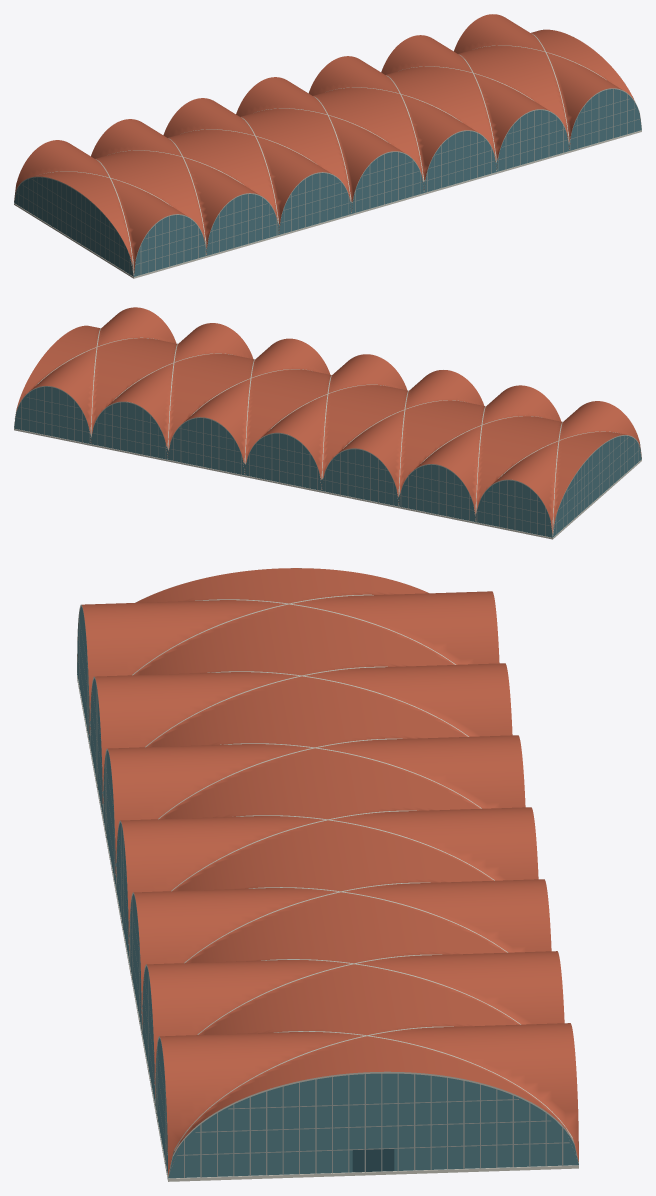
The model's file is SEU_pool_exterior_v05.glb.
3 views of the same model, one above another, from view 1: azimuth 30°, elevation 25°; view 2: azimuth 150°, elevation 25°; view 3: azimuth 270°, elevation 25° (orthographic). The views are drawn at different scales.
Visible parts, largest first — view 1: SEU_B_OSMWAY_851764288_V05__glazing_00, SEU_B_OSMWAY_851764288_V05__vault_00, SEU_B_OSMWAY_851764288_V05__vault_01, SEU_B_OSMWAY_851764288_V05__vault_02, SEU_B_OSMWAY_851764288_V05__vault_04, SEU_B_OSMWAY_851764288_V05__vault_03, SEU_B_OSMWAY_851764288_V05__vault_05, SEU_B_OSMWAY_851764288_V05__vault_06, SEU_B_OSMWAY_851764288_V05__glazing_03, SEU_B_OSMWAY_851764288_V05__mullions_00, SEU_B_OSMWAY_851764288_V05__foundation, SEU_B_OSMWAY_851764288_V05__transoms_00 (+2 smaller); view 2: SEU_B_OSMWAY_851764288_V05__glazing_02, SEU_B_OSMWAY_851764288_V05__vault_00, SEU_B_OSMWAY_851764288_V05__vault_01, SEU_B_OSMWAY_851764288_V05__vault_02, SEU_B_OSMWAY_851764288_V05__vault_06, SEU_B_OSMWAY_851764288_V05__vault_05, SEU_B_OSMWAY_851764288_V05__vault_03, SEU_B_OSMWAY_851764288_V05__vault_04, SEU_B_OSMWAY_851764288_V05__glazing_03, SEU_B_OSMWAY_851764288_V05__mullions_02, SEU_B_OSMWAY_851764288_V05__foundation, SEU_B_OSMWAY_851764288_V05__transoms_02 (+2 smaller); view 3: SEU_B_OSMWAY_851764288_V05__vault_06, SEU_B_OSMWAY_851764288_V05__vault_00, SEU_B_OSMWAY_851764288_V05__vault_01, SEU_B_OSMWAY_851764288_V05__vault_02, SEU_B_OSMWAY_851764288_V05__vault_04, SEU_B_OSMWAY_851764288_V05__vault_03, SEU_B_OSMWAY_851764288_V05__vault_05, SEU_B_OSMWAY_851764288_V05__glazing_01, SEU_B_OSMWAY_851764288_V05__glazing_00, SEU_B_OSMWAY_851764288_V05__mullions_01, SEU_B_OSMWAY_851764288_V05__foundation, SEU_B_OSMWAY_851764288_V05__transoms_01 (+4 smaller).
Boxes of the visible parts, x1,y1,x2,y2 form: SEU_B_OSMWAY_851764288_V05__glazing_00: [134, 89, 641, 276]; SEU_B_OSMWAY_851764288_V05__vault_00: [14, 140, 206, 273]; SEU_B_OSMWAY_851764288_V05__vault_01: [91, 119, 278, 254]; SEU_B_OSMWAY_851764288_V05__vault_02: [163, 98, 350, 232]; SEU_B_OSMWAY_851764288_V05__vault_04: [308, 56, 496, 189]; SEU_B_OSMWAY_851764288_V05__vault_03: [236, 77, 423, 211]; SEU_B_OSMWAY_851764288_V05__vault_05: [381, 35, 569, 167]; SEU_B_OSMWAY_851764288_V05__vault_06: [454, 14, 640, 149]; SEU_B_OSMWAY_851764288_V05__glazing_03: [14, 177, 133, 276]; SEU_B_OSMWAY_851764288_V05__mullions_00: [140, 89, 634, 274]; SEU_B_OSMWAY_851764288_V05__foundation: [14, 130, 641, 278]; SEU_B_OSMWAY_851764288_V05__transoms_00: [136, 98, 639, 264]; SEU_B_OSMWAY_851764288_V05__glazing_02: [14, 386, 552, 537]; SEU_B_OSMWAY_851764288_V05__vault_00: [476, 401, 641, 534]; SEU_B_OSMWAY_851764288_V05__vault_01: [399, 385, 561, 520]; SEU_B_OSMWAY_851764288_V05__vault_02: [323, 370, 484, 502]; SEU_B_OSMWAY_851764288_V05__vault_06: [15, 307, 176, 439]; SEU_B_OSMWAY_851764288_V05__vault_05: [91, 323, 253, 457]; SEU_B_OSMWAY_851764288_V05__vault_03: [245, 354, 406, 489]; SEU_B_OSMWAY_851764288_V05__vault_04: [168, 338, 330, 473]; SEU_B_OSMWAY_851764288_V05__glazing_03: [553, 435, 641, 537]; SEU_B_OSMWAY_851764288_V05__mullions_02: [21, 387, 545, 536]; SEU_B_OSMWAY_851764288_V05__foundation: [14, 428, 641, 539]; SEU_B_OSMWAY_851764288_V05__transoms_02: [16, 397, 550, 526]; SEU_B_OSMWAY_851764288_V05__vault_06: [155, 1000, 578, 1175]; SEU_B_OSMWAY_851764288_V05__vault_00: [77, 568, 499, 733]; SEU_B_OSMWAY_851764288_V05__vault_01: [90, 640, 512, 803]; SEU_B_OSMWAY_851764288_V05__vault_02: [103, 712, 525, 875]; SEU_B_OSMWAY_851764288_V05__vault_04: [129, 856, 551, 1022]; SEU_B_OSMWAY_851764288_V05__vault_03: [116, 784, 538, 949]; SEU_B_OSMWAY_851764288_V05__vault_05: [142, 928, 564, 1096]; SEU_B_OSMWAY_851764288_V05__glazing_01: [168, 1073, 578, 1178]; SEU_B_OSMWAY_851764288_V05__glazing_00: [77, 606, 167, 1174]; SEU_B_OSMWAY_851764288_V05__mullions_01: [168, 1073, 578, 1178]; SEU_B_OSMWAY_851764288_V05__foundation: [77, 675, 578, 1181]; SEU_B_OSMWAY_851764288_V05__transoms_01: [177, 1099, 569, 1155].
Size of the model in its own units: 119 by 11.09 by 48.73.
